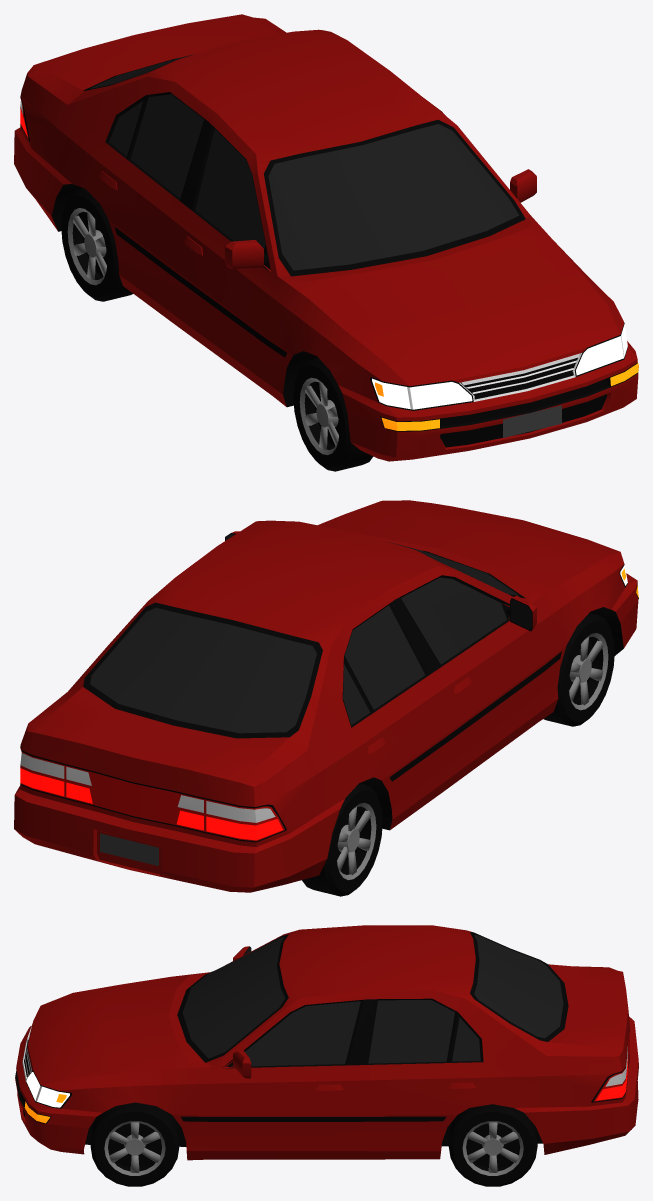
The model's file is car-sedan.glb.
The picture shows the model from 3 angles, top to bottom: view 1: azimuth 30°, elevation 25°; view 2: azimuth 150°, elevation 25°; view 3: azimuth 270°, elevation 25°; orthographic projection. The views are drawn at different scales.
Visible parts, largest first — view 1: Body_Object_31, Body_Object_34, Body_Object_32, Body_Object_33, wheel-front-left, wheel-back-left, Body_Object_36, Body_Object_39, Body_Object_41, Body_Object_38; view 2: Body_Object_31, Body_Object_34, Body_Object_32, wheel-front-left, wheel-back-left, Body_Object_40, Body_Object_35, Body_Object_37, Body_Object_33, Body_Object_41; view 3: Body_Object_31, Body_Object_34, Body_Object_32, wheel-front-right, wheel-back-right, Body_Object_36, Body_Object_33.
Part boxes in pixels (<box>): Body_Object_31: <box>14,14,638,461</box>; Body_Object_34: <box>90,54,519,270</box>; Body_Object_32: <box>20,58,638,431</box>; Body_Object_33: <box>51,184,607,447</box>; wheel-front-left: <box>293,357,373,471</box>; wheel-back-left: <box>61,188,133,301</box>; Body_Object_36: <box>372,324,627,409</box>; Body_Object_39: <box>459,353,581,401</box>; Body_Object_41: <box>503,405,561,437</box>; Body_Object_38: <box>375,362,638,430</box>; Body_Object_31: <box>14,500,638,892</box>; Body_Object_34: <box>90,534,531,733</box>; Body_Object_32: <box>20,533,638,842</box>; wheel-front-left: <box>543,612,614,726</box>; wheel-back-left: <box>302,783,382,896</box>; Body_Object_40: <box>20,746,284,841</box>; Body_Object_35: <box>20,768,282,840</box>; Body_Object_37: <box>20,753,275,822</box>; Body_Object_33: <box>360,607,623,830</box>; Body_Object_41: <box>100,833,158,865</box>; Body_Object_31: <box>15,925,638,1160</box>; Body_Object_34: <box>182,935,563,1066</box>; Body_Object_32: <box>15,932,629,1123</box>; wheel-front-right: <box>90,1102,179,1186</box>; wheel-back-right: <box>448,1104,537,1186</box>; Body_Object_36: <box>26,1034,69,1107</box>; Body_Object_33: <box>20,1040,542,1146</box>.
Bounding box in the file's own units: 1.87 × 1.38 × 4.26.
